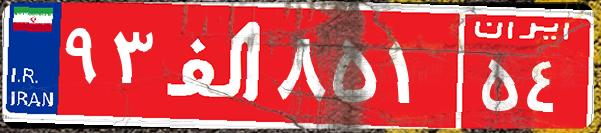1: (385, 28, 445, 110)
3: (110, 28, 158, 105)
4: (525, 38, 570, 115)
5: (330, 28, 385, 110), (475, 38, 525, 113)
8: (273, 28, 330, 110)
9: (57, 26, 110, 107)
الف: (158, 15, 273, 115)
